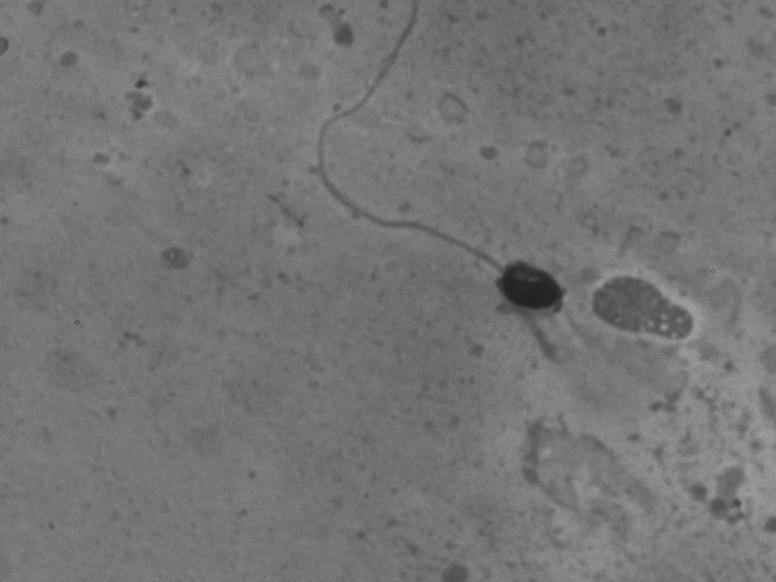Abnormal: (292, 9, 578, 326)
